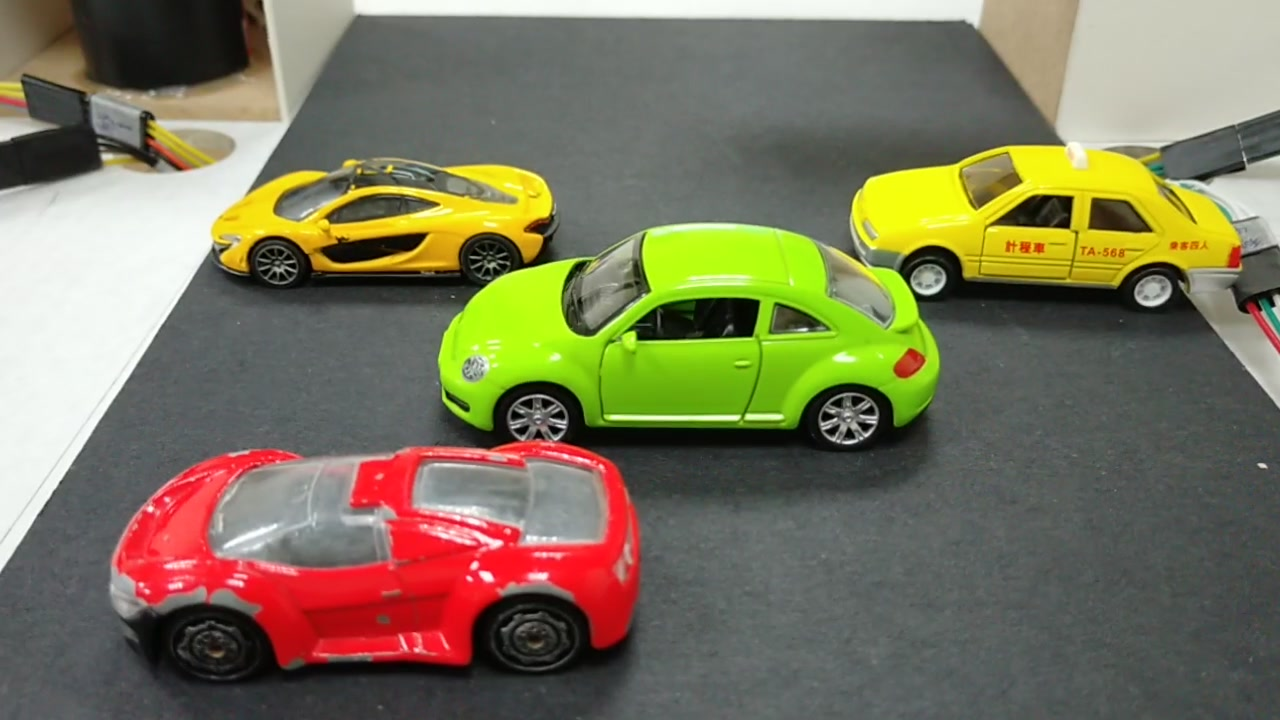car: (101, 456, 648, 674), (454, 239, 945, 449), (858, 136, 1245, 311), (210, 166, 550, 271)
